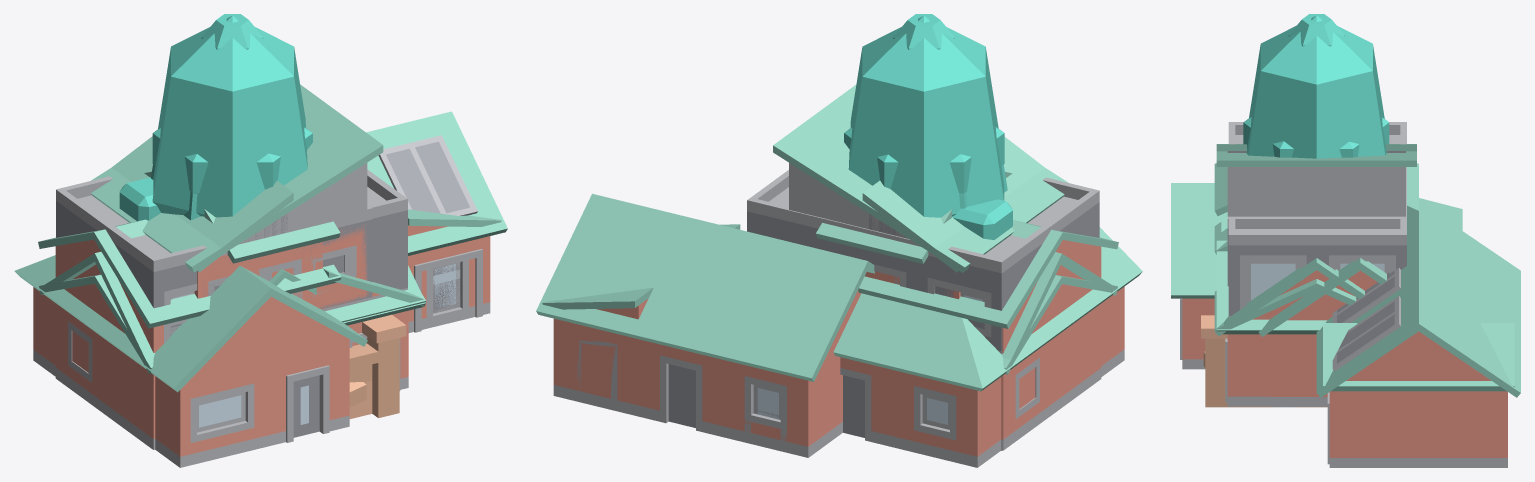
The model's file is kit.glb.
3 views of the same model, side by side, from view 1: azimuth 30°, elevation 25°; view 2: azimuth 150°, elevation 25°; view 3: azimuth 270°, elevation 25° (orthographic). The views are drawn at different scales.
Visible parts, largest first — view 1: house_type05, tree_default, house_type14, house_type15, house_type01, house_type19, house_type21, house_type20, bridge_wood, house_type04, house_type07, house_type09 (+3 smaller); view 2: house_type01, house_type05, tree_default, house_type04, house_type14, house_type15, house_type19, house_type20, house_type21, house_type07, house_type09, tree_detailed (+2 smaller); view 3: house_type01, tree_default, house_type05, house_type15, house_type20, house_type04, house_type07, house_type14, house_type21, house_type09, bridge_wood, tree_tall (+2 smaller).
Part boxes in pixels (x1,y1,x2,y2): house_type05: (14, 255, 367, 467); tree_default: (152, 15, 307, 217); house_type14: (38, 171, 425, 449); house_type15: (91, 84, 383, 345); house_type01: (366, 111, 507, 332); house_type19: (56, 177, 407, 372); house_type21: (112, 136, 372, 347); house_type20: (56, 169, 407, 332); bridge_wood: (349, 314, 406, 418); house_type04: (366, 132, 501, 332); house_type07: (39, 252, 425, 449); house_type09: (39, 264, 425, 369); house_type01: (536, 193, 874, 457); house_type05: (833, 227, 1142, 467); tree_default: (848, 15, 1004, 217); house_type04: (542, 219, 866, 446); house_type14: (816, 172, 1118, 450); house_type15: (773, 85, 1068, 299); house_type19: (832, 177, 1099, 450); house_type20: (747, 170, 1099, 447); house_type21: (784, 137, 1044, 297); house_type07: (1002, 252, 1117, 408); house_type09: (858, 275, 1117, 408); tree_detailed: (952, 199, 1012, 239); house_type01: (1316, 201, 1520, 467); tree_default: (1246, 15, 1386, 158); house_type05: (1171, 183, 1462, 406); house_type15: (1216, 144, 1416, 216); house_type20: (1228, 122, 1406, 315); house_type04: (1323, 203, 1520, 464); house_type07: (1214, 213, 1364, 406); house_type14: (1214, 163, 1418, 402); house_type21: (1216, 144, 1416, 286); house_type09: (1214, 222, 1356, 342); bridge_wood: (1201, 315, 1327, 407); tree_tall: (1288, 14, 1344, 46).
Bounding box in the file's own units: 1.95 × 1.71 × 1.57.
